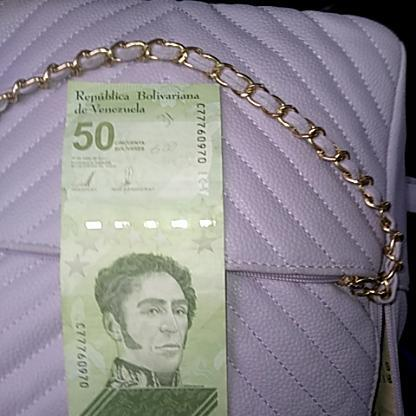vef_front: (56, 81, 228, 416)
